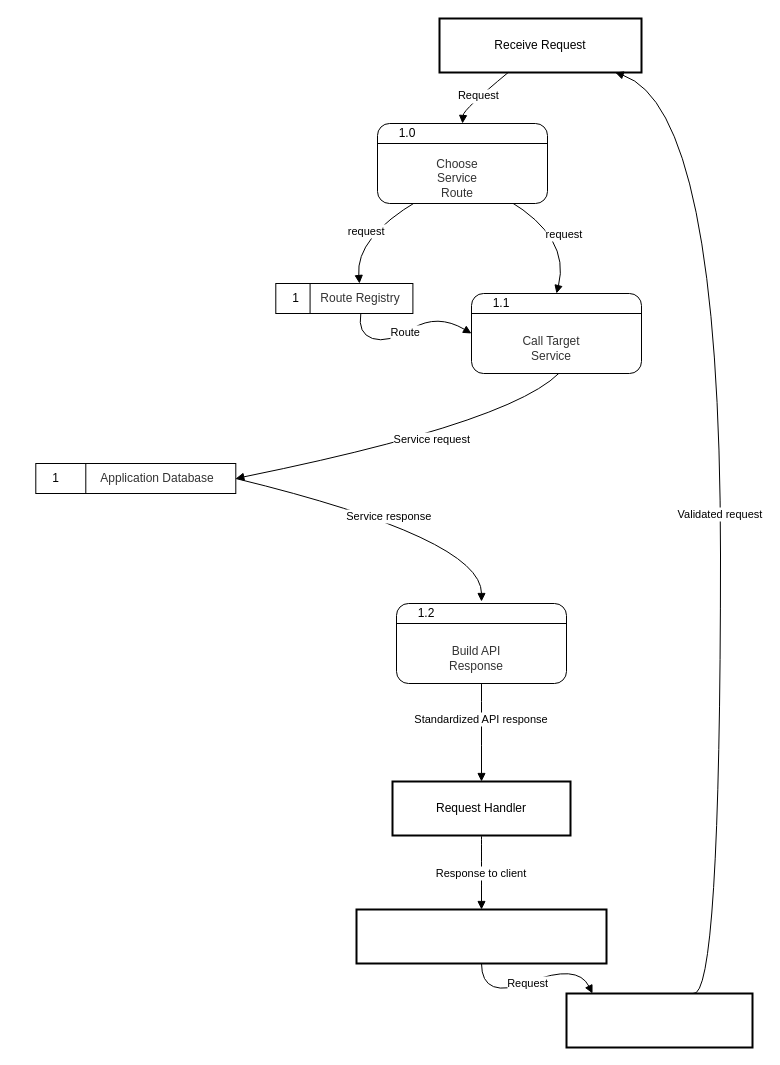
Image size: 780x1065. Some labels were removed from this diagram. The shapes that lost their labels are listed below. From the top down, each one's box as (x1, y1, x2, y2) in pixels, then its label:
(355, 908, 607, 964): Web Client / Mobile Client
(565, 992, 753, 1048): Request Validator
